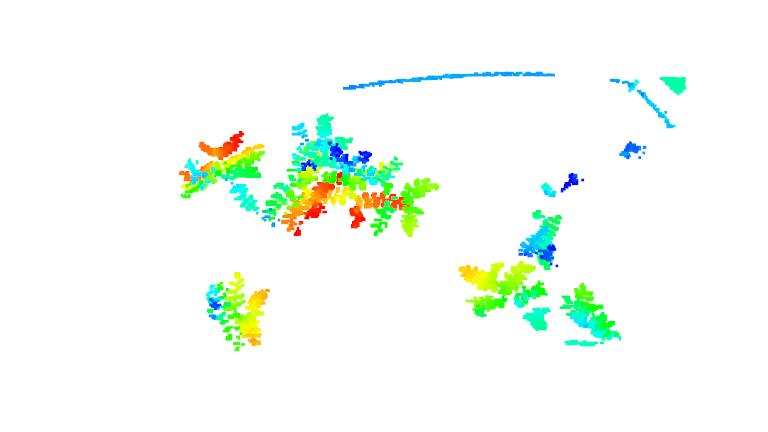chickpea: (267, 114, 356, 239), (348, 143, 442, 237), (174, 127, 266, 216), (462, 259, 553, 339), (514, 169, 583, 272), (197, 273, 271, 356), (556, 281, 626, 359)
